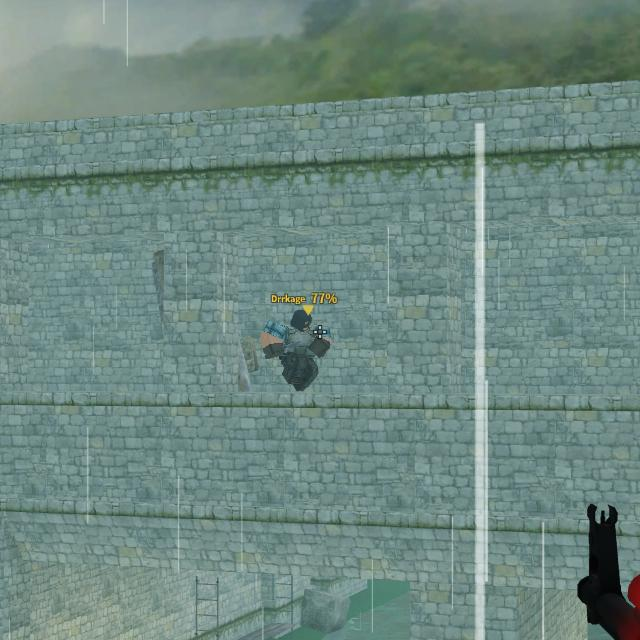Head: (292, 310, 312, 331)
Player: (260, 308, 332, 390)
